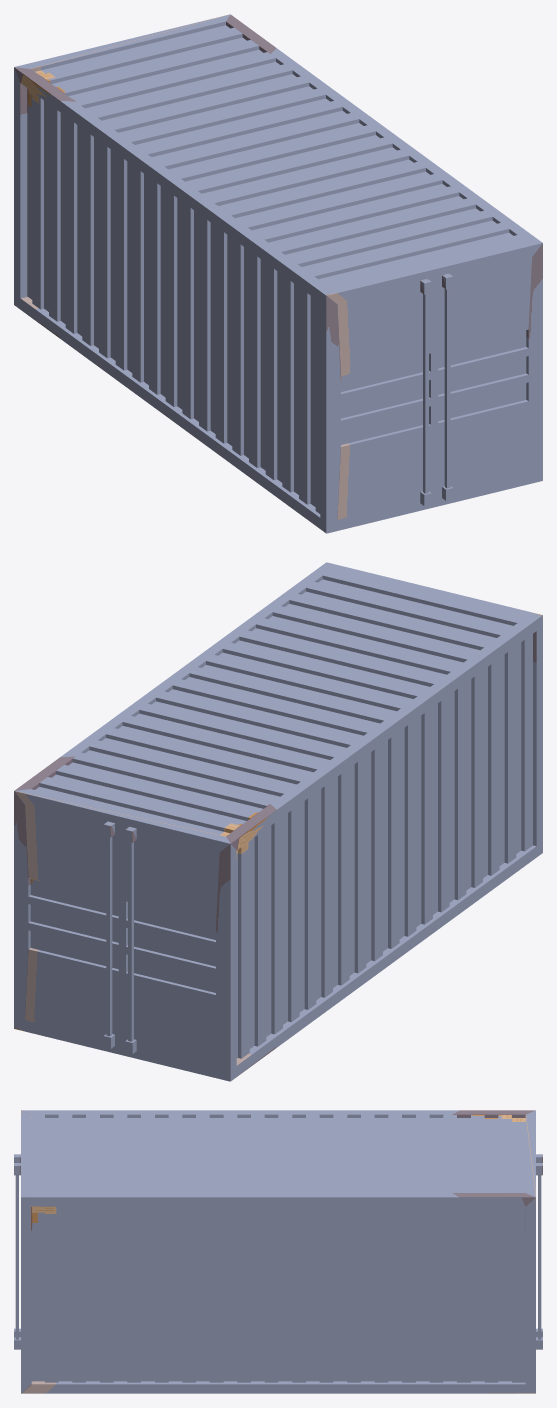
Rendered from container_close.FBX.
3 views of the same model, one above another, from view 1: azimuth 30°, elevation 25°; view 2: azimuth 150°, elevation 25°; view 3: azimuth 270°, elevation 25° (orthographic). The views are drawn at different scales.
Visible parts, largest first — view 1: container_close; view 2: container_close; view 3: container_close.
Part boxes in pixels (left/top/right/bottom): container_close: left=14, top=14, right=542, bottom=533; container_close: left=14, top=562, right=542, bottom=1081; container_close: left=14, top=1110, right=542, bottom=1393.
Bounding box in the file's own units: 240 × 252 × 616.
